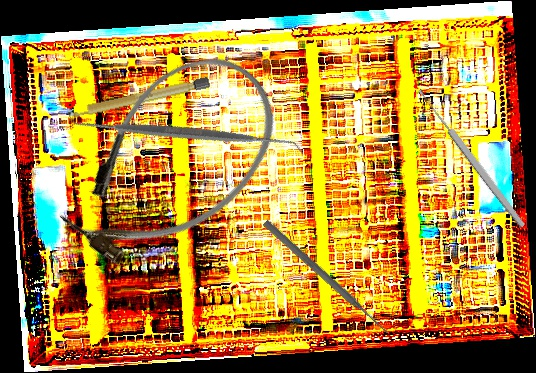Cannula: (36, 28, 306, 295)
Pusher: (261, 218, 391, 337)
Scalpel Handle: (64, 75, 212, 121)
Spatula Surgical: (68, 16, 303, 251)
Surgical Spoon: (416, 86, 527, 230)
